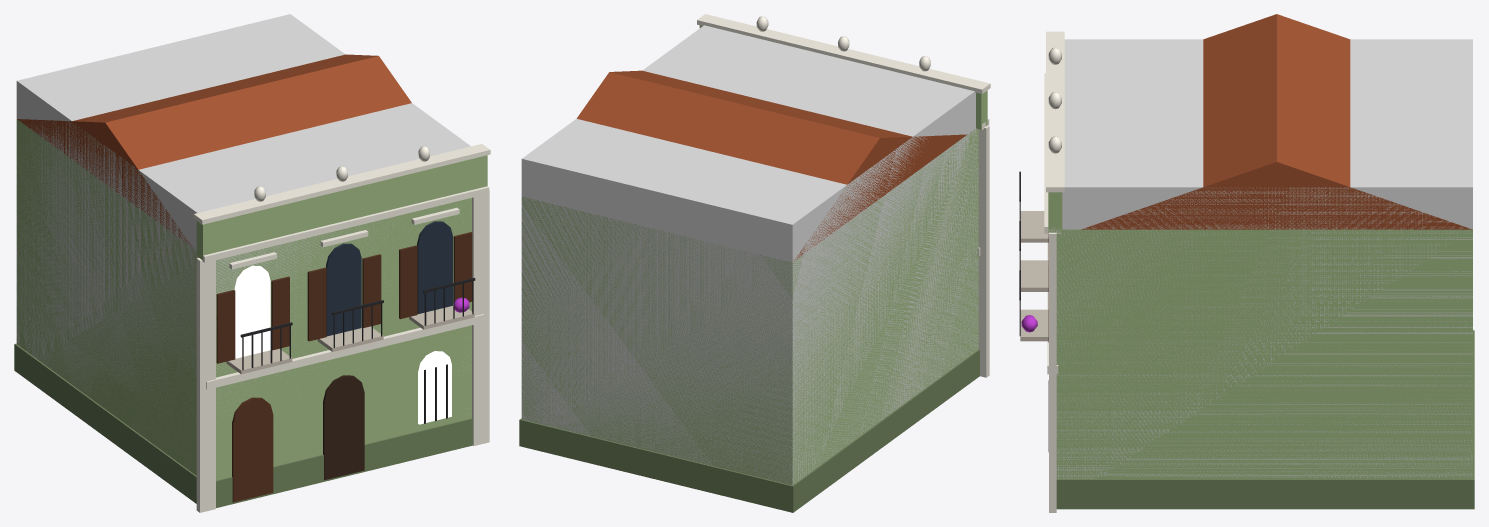
Rendered from sobrado_5.glb.
3 views of the same model, side by side, from view 1: azimuth 30°, elevation 25°; view 2: azimuth 150°, elevation 25°; view 3: azimuth 270°, elevation 25° (orthographic). The views are drawn at different scales.
Parts seen in each view (by area): view 1: sobrado_5_Malla, COL_0; view 2: COL_0, sobrado_5_Malla; view 3: sobrado_5_Malla, COL_0.
Part boxes in pixels (box(x1,y1,x2,y2)): sobrado_5_Malla: box(14, 54, 490, 512); COL_0: box(16, 14, 470, 474); COL_0: box(521, 25, 978, 485); sobrado_5_Malla: box(519, 14, 990, 512); sobrado_5_Malla: box(1019, 14, 1474, 512); COL_0: box(1056, 39, 1472, 478).
Bounding box in the file's own units: 7.94 × 8.2 × 9.76.
